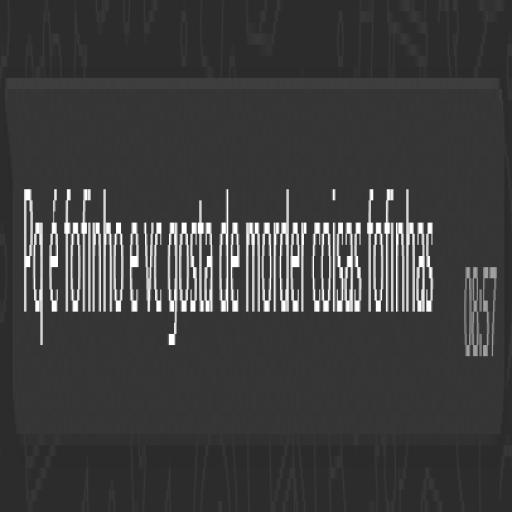mensagem-recebida: (6, 78, 508, 423)
